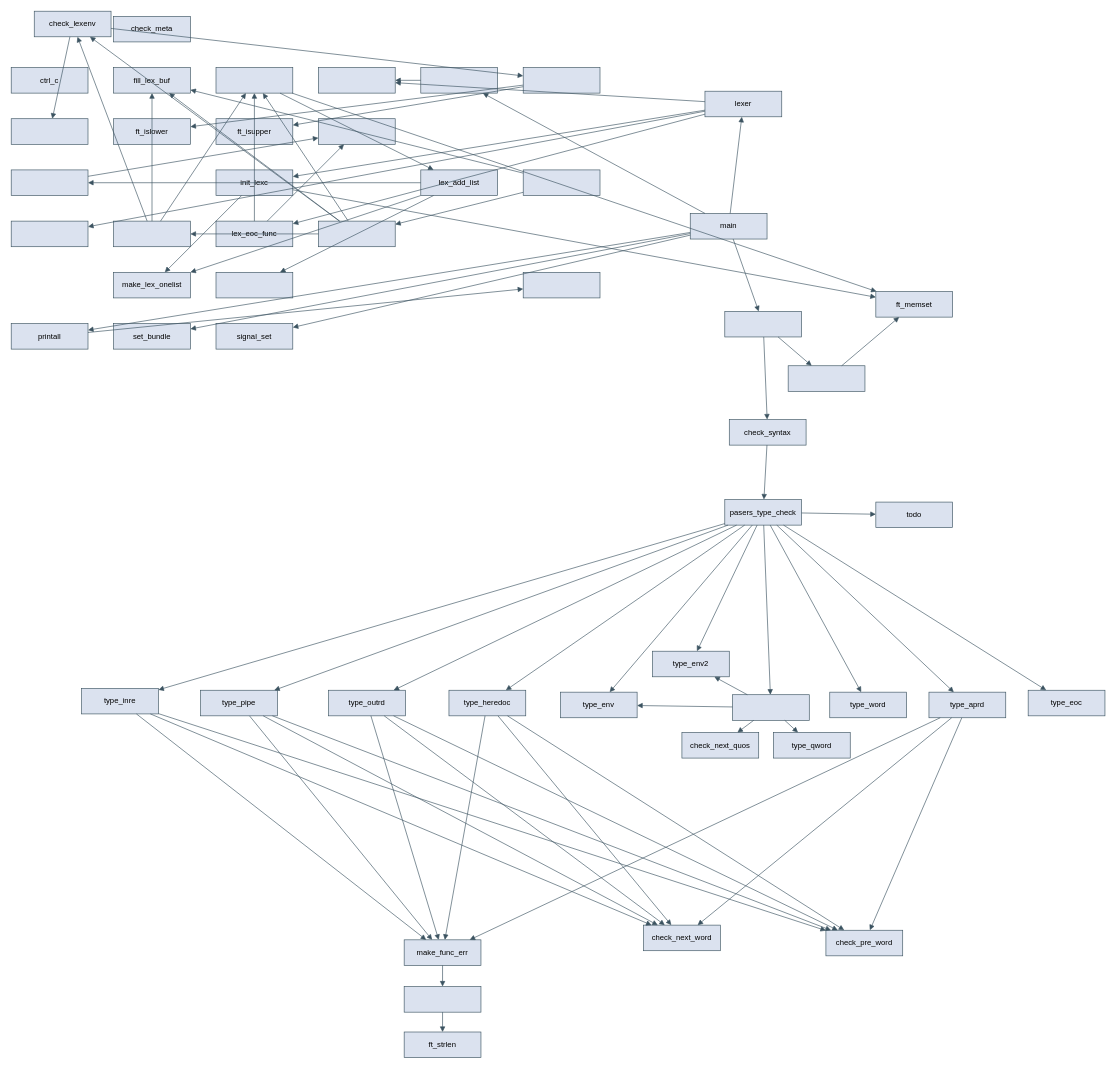
Image size: 1116x1069. Some labels were removed from this diagram. Each missing label, with the centre of its shape:
"fill_token_word" goes at point (254, 80).
"free_all" goes at point (356, 80).
"free_bundle" goes at point (459, 80).
"ft_isalpha" goes at point (561, 80).
"ft_isdigit" goes at point (49, 131).
"ft_memcpy" goes at point (356, 131).
"ft_putstr_fd" goes at point (442, 999).
"ft_strdup" goes at point (49, 182).
"init_par_list" goes at point (826, 378).
"lex_bquo_check" goes at point (561, 182).
"lex_check_func" goes at point (49, 233).
"lex_env_norm" goes at point (151, 233).
"lexenv_func" goes at point (356, 233).
"move_to_end" goes at point (254, 285).
"parser" goes at point (763, 324).
"print_list" goes at point (561, 285).
"type_quotes" goes at point (770, 707).
